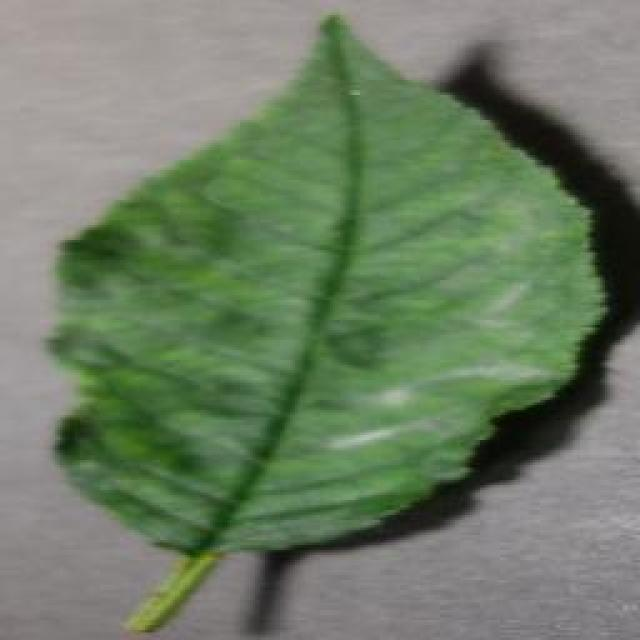Cherry___Powdery_mildew: (25, 2, 625, 640)
